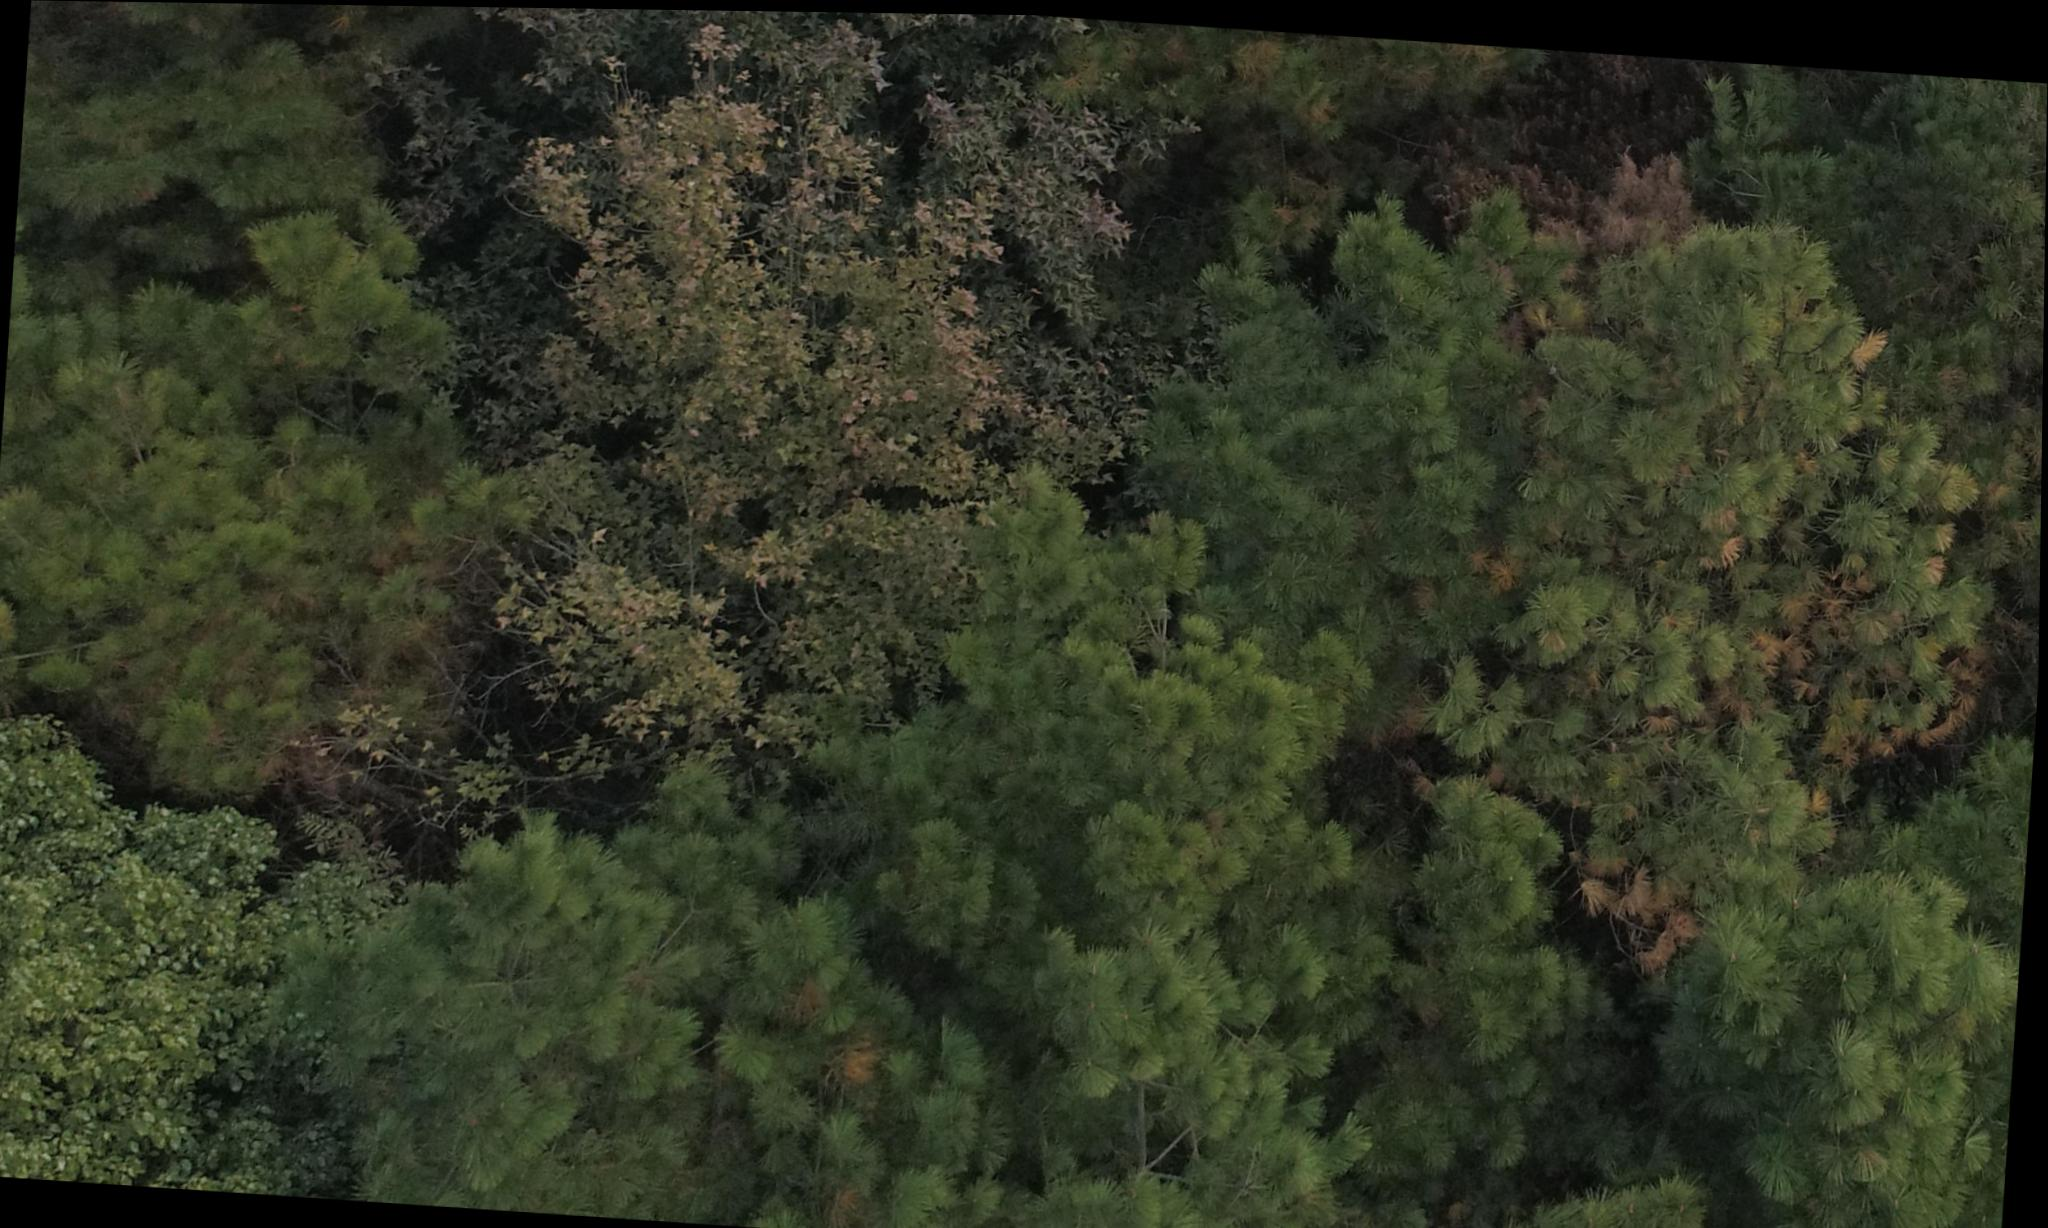light: (1478, 244, 2001, 902)
